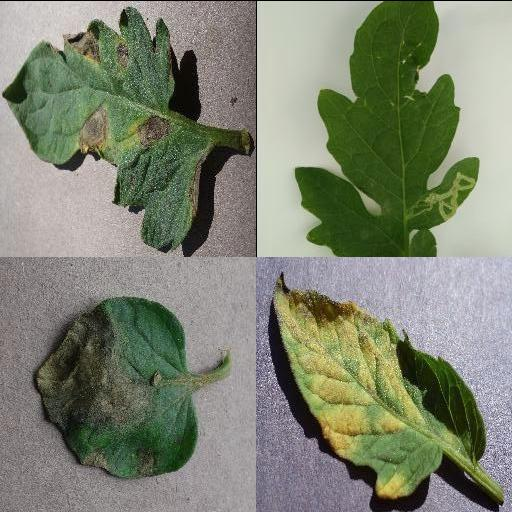Early Blight: (3, 6, 211, 247)
Late Blight: (29, 295, 201, 479)
Leaf Miner: (294, 1, 482, 256)
Leaf Mold: (272, 272, 488, 498)
